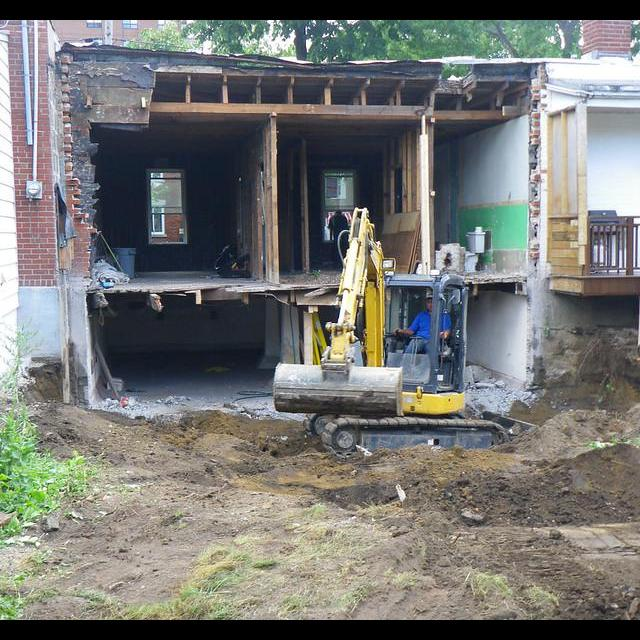Excavator: (275, 209, 542, 458)
NO-Hardhat: (425, 290, 437, 299)
NO-Mask: (428, 306, 433, 313)
NO-Safety Vest: (417, 311, 446, 338)
Person: (393, 291, 451, 372), (328, 209, 349, 255)
